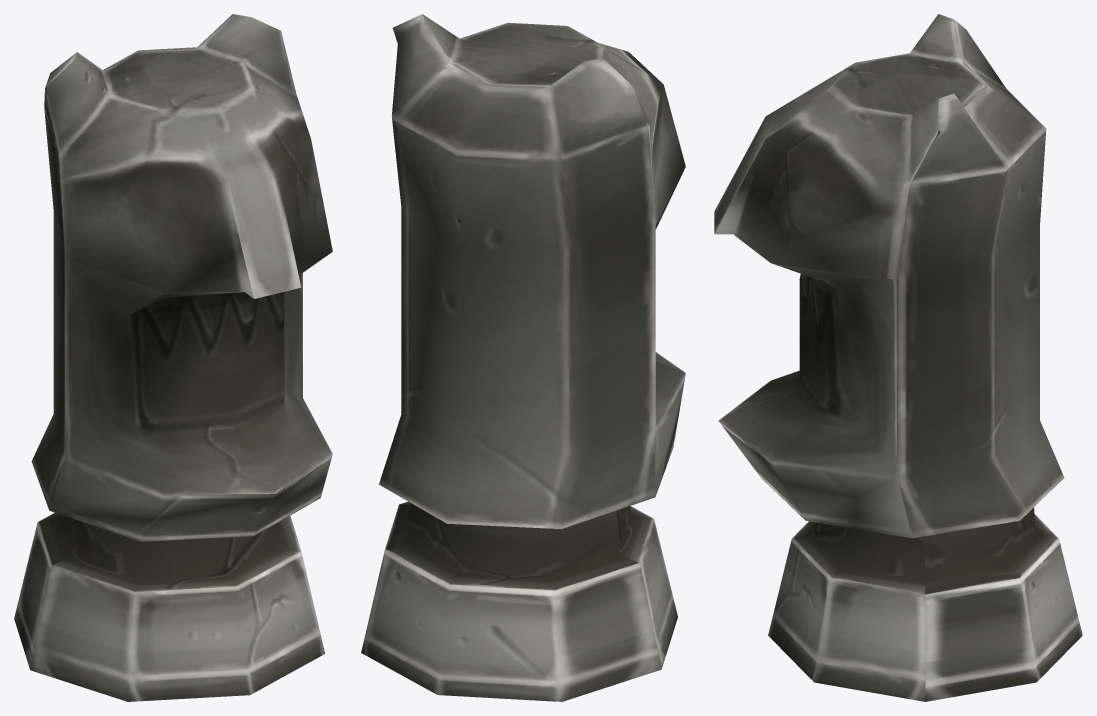
The model's file is Standbeeld.fbx.
The picture shows the model from 3 angles, left to right: view 1: azimuth 30°, elevation 25°; view 2: azimuth 150°, elevation 25°; view 3: azimuth 270°, elevation 25°; orthographic projection. The views are drawn at different scales.
Parts seen in each view (by area): view 1: Cylinder; view 2: Cylinder; view 3: Cylinder.
Part boxes in pixels (left/top/right/bottom): Cylinder: left=14, top=14, right=332, bottom=701; Cylinder: left=361, top=14, right=685, bottom=701; Cylinder: left=714, top=14, right=1082, bottom=701.
Size of the model in its own units: 52.43 by 106 by 61.41.
Materials: 1 (1 with a texture image).
